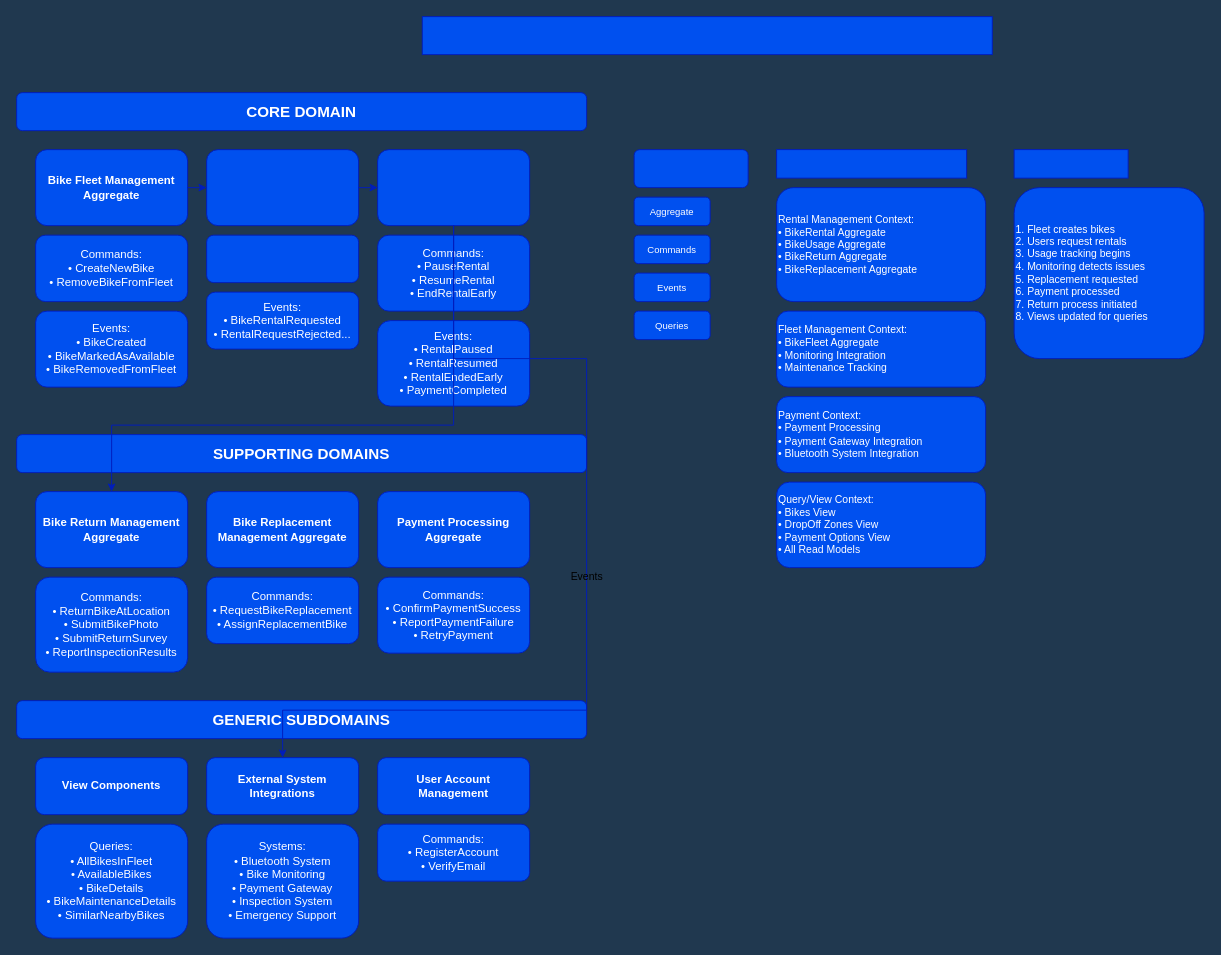
Image size: 1221x955. Some labels were removed from this diagram. Here are the shapes that lost their labels. From the top down, the centre of each, then its label:
At (706,35): "Jupiter Wheels - DDD Architecture".
At (690,168): "LEGEND".
At (871,163): "BOUNDED CONTEXTS".
At (1070,163): "EVENT FLOW".
At (282,187): "Bike Rental Management Aggregate".
At (453,187): "Bike Usage Management Aggregate".
At (282,258): "Commands: • RequestBikeRental".
